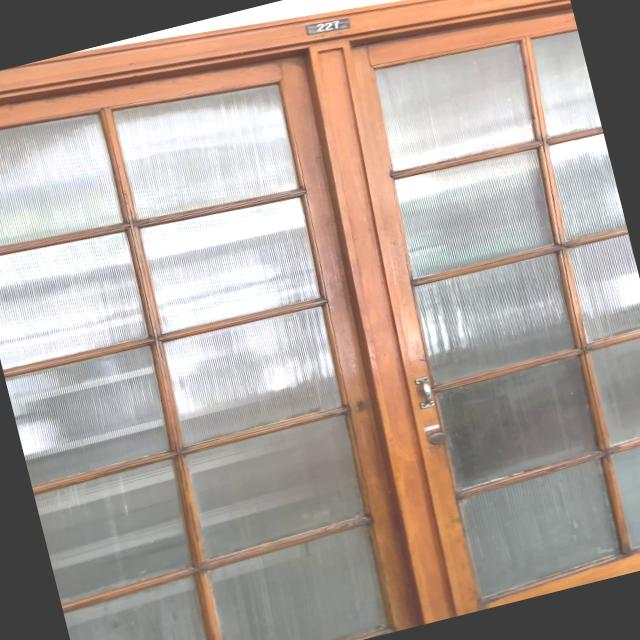room227: (300, 12, 353, 40)
